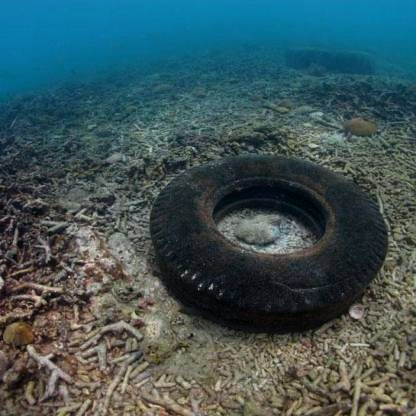tire: (143, 146, 392, 348)
